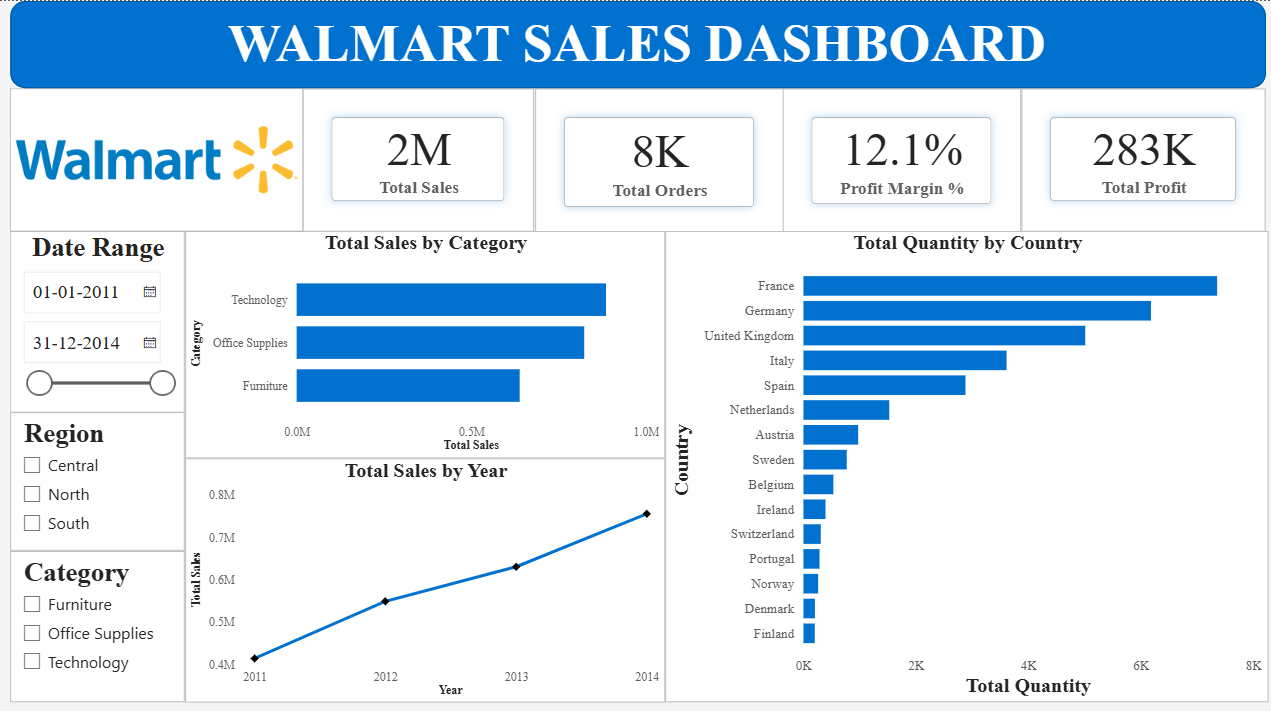

The dashboard page shown, as its layout file describes it:
{"tool":"powerbi","page":{"name":"Summary","canvas":[1280,720],"ordinal":0},"visuals":[{"type":"cardVisual","fields":{"Data":["Sheet1.Total Sales"]},"box":[304.3,87.1,231.4,142.9],"z":0},{"type":"cardVisual","fields":{"Data":["Sheet1.Total Orders"]},"box":[535.7,87.1,248.6,148.6],"z":1000},{"type":"cardVisual","fields":{"Data":["Sheet1.Profit Margin %"]},"box":[784.3,87.1,238.6,145.7],"z":2000},{"type":"cardVisual","fields":{"Data":["Sheet1.Total Profit"]},"box":[1022.9,87.1,244.3,142.9],"z":3000},{"type":"lineChart","fields":{"Category":["Sheet1.Order Date.Variation.Date Hierarchy.Year","Sheet1.Order Date.Variation.Date Hierarchy.Quarter","Sheet1.Order Date.Variation.Date Hierarchy.Month","Sheet1.Order Date.Variation.Date Hierarchy.Day"],"Y":["Sheet1.Total Sales"]},"box":[185.7,457,479.9,244.3],"z":4000},{"type":"clusteredBarChart","fields":{"Category":["Sheet1.Category"],"Y":["Sheet1.Total Sales"]},"box":[185.7,230,479.9,227],"z":5000},{"type":"barChart","fields":{"Category":["Sheet1.Country"],"Y":["Sheet1.Total Quantity"]},"box":[665.7,230,603.5,471.3],"z":6000},{"type":"slicer","title":"Date Range","fields":{"Values":["Sheet1.Order Date"]},"box":[11.4,230,174.3,181.4],"z":7000},{"type":"slicer","fields":{"Values":["Sheet1.Region"]},"box":[11.4,411.4,174.3,138.6],"z":8000},{"type":"slicer","fields":{"Values":["Sheet1.Category"]},"box":[11.4,550,174.3,151.4],"z":9000},{"type":"image","box":[11.4,87.1,292.9,142.9],"z":10000},{"type":"shape","box":[11.4,0,1255.7,87.1],"z":11000},{"type":"textbox","box":[224.3,7.1,831.4,74.3],"z":12000}]}

Visuals, with their boxes in screenshot pixels (x1, y1, x2, y2), scaled from the page's 1280x720 canvas onto the 1271x711 screenshot:
cardVisual - Sheet1.Total Sales: BBox(302, 86, 532, 227)
cardVisual - Sheet1.Total Orders: BBox(532, 86, 779, 233)
cardVisual - Sheet1.Profit Margin %: BBox(779, 86, 1016, 230)
cardVisual - Sheet1.Total Profit: BBox(1016, 86, 1258, 227)
lineChart - Sheet1.Order Date.Variation.Date Hierarchy.Year x Sheet1.Order Date.Variation.Date Hierarchy.Quarter: BBox(184, 451, 661, 693)
clusteredBarChart - Sheet1.Category x Sheet1.Total Sales: BBox(184, 227, 661, 451)
barChart - Sheet1.Country x Sheet1.Total Quantity: BBox(661, 227, 1260, 693)
"Date Range" slicer: BBox(11, 227, 184, 406)
slicer - Sheet1.Region: BBox(11, 406, 184, 543)
slicer - Sheet1.Category: BBox(11, 543, 184, 693)
image: BBox(11, 86, 302, 227)
shape: BBox(11, 0, 1258, 86)
textbox: BBox(223, 7, 1048, 80)
